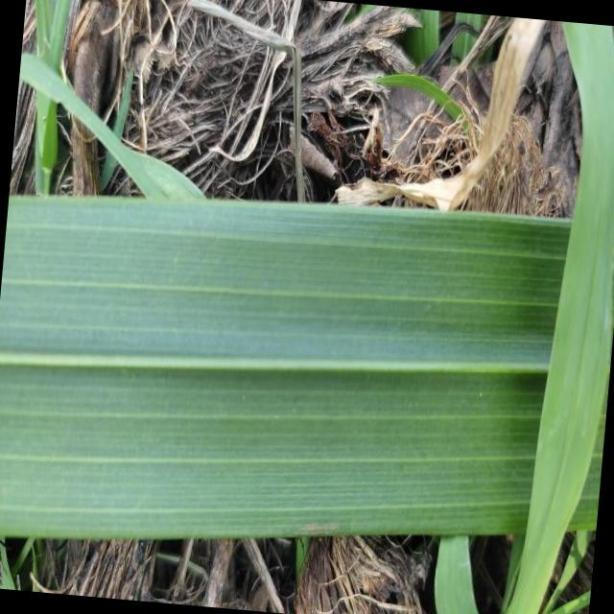Healthy: (0, 192, 614, 544)
